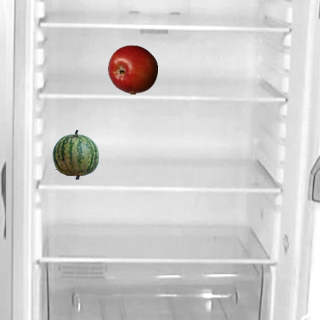Apple Braeburn: (107, 44, 157, 94)
Watermelon: (50, 129, 100, 179)
